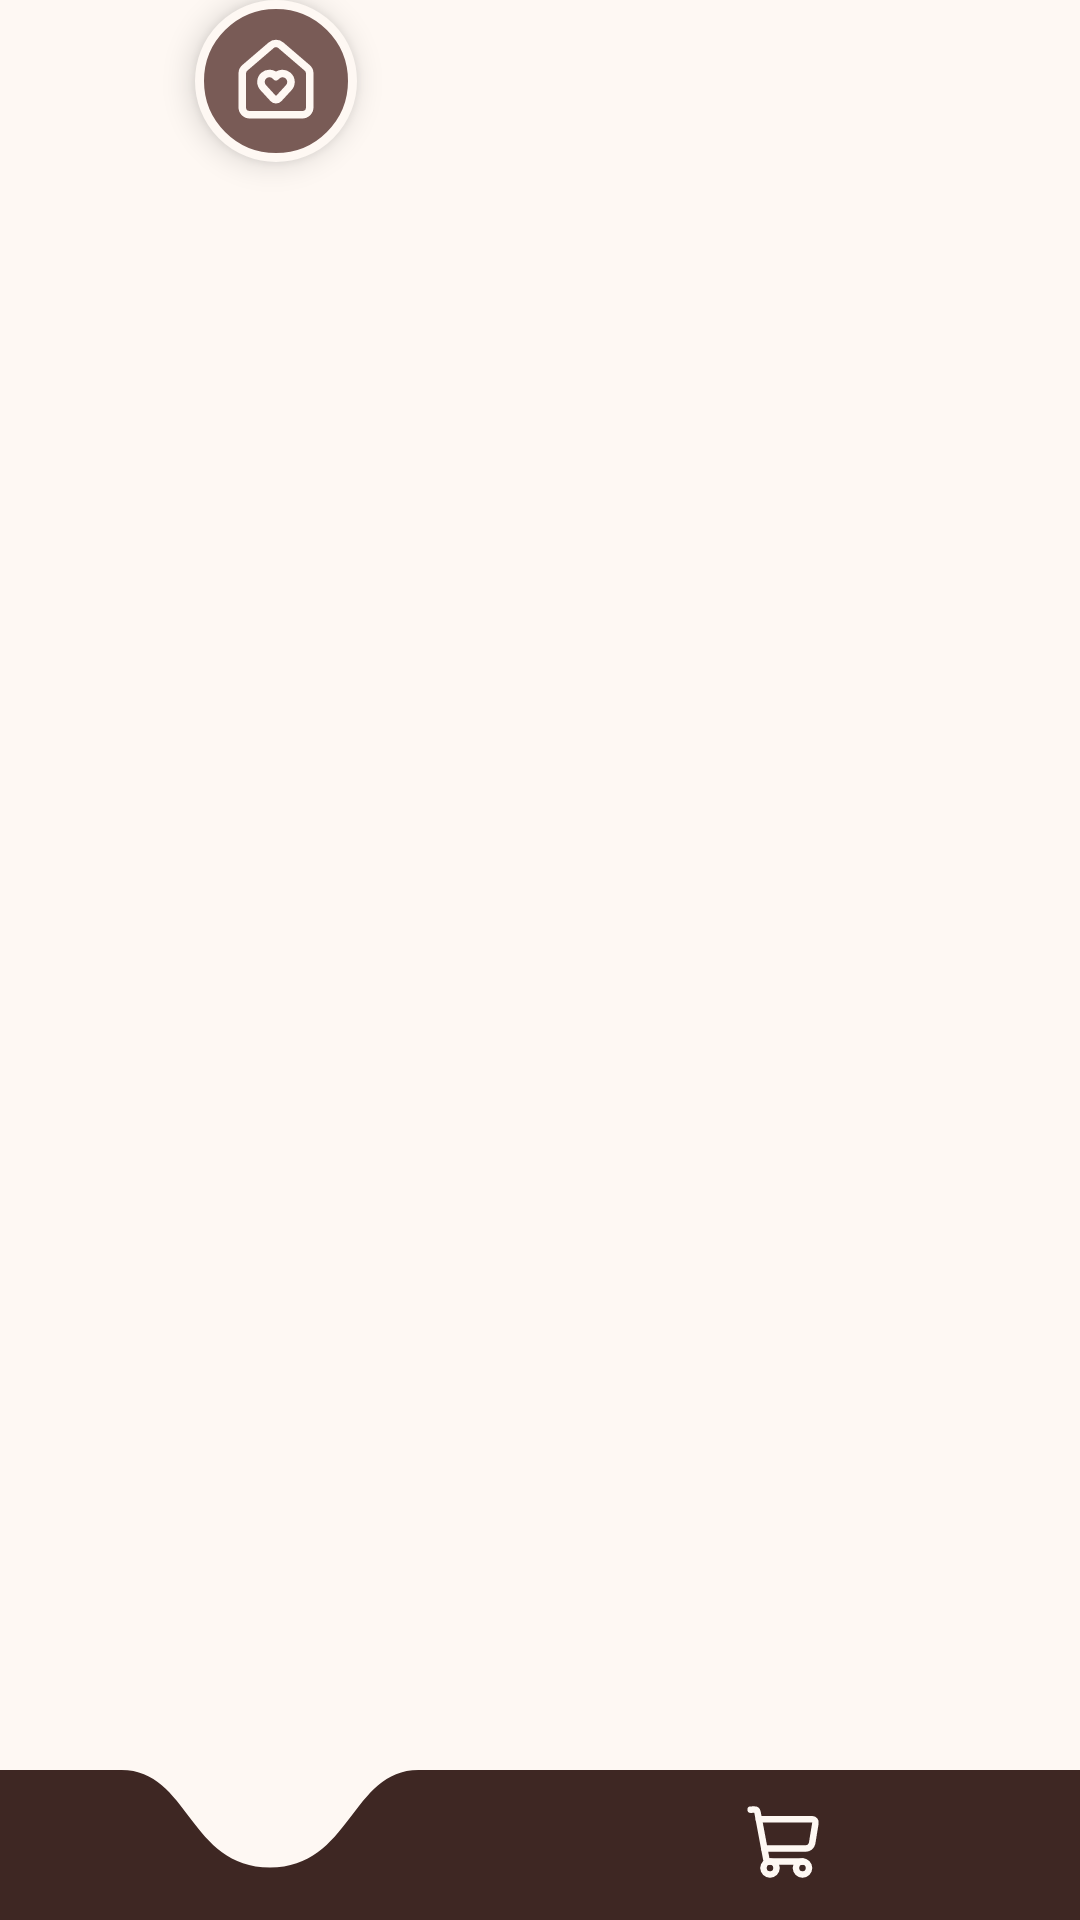

Where to tap for icons on this 1080 x 1920 app screen, as (x,y):
Abrir carrito: (783,1842)
Ir al inicio: (271,85)
